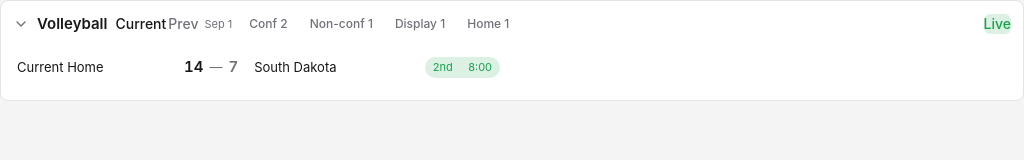
Test: SportSection › does not collapse the expander when a period is clicked
This screenshot has width=1024, height=160.
Click the button "Prev". click: [183, 24]
box: x1=168 y1=14 x2=198 y2=34
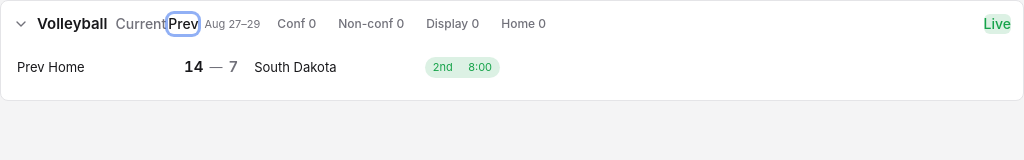
Expected: the text "Prev Home" is shown, x1=17 y1=59 x2=85 y2=75
Click the button "Volleyball". click: [60, 24]
box: x1=13 y1=13 x2=108 y2=36
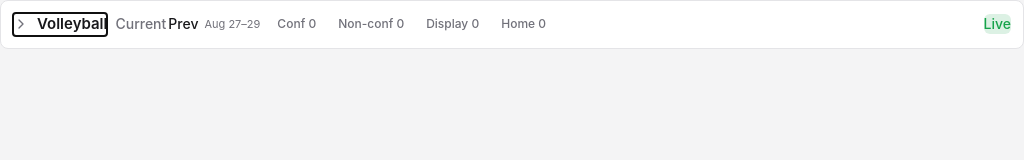
Expected: the button "Volleyball" is collapsed, x1=13 y1=13 x2=108 y2=36
